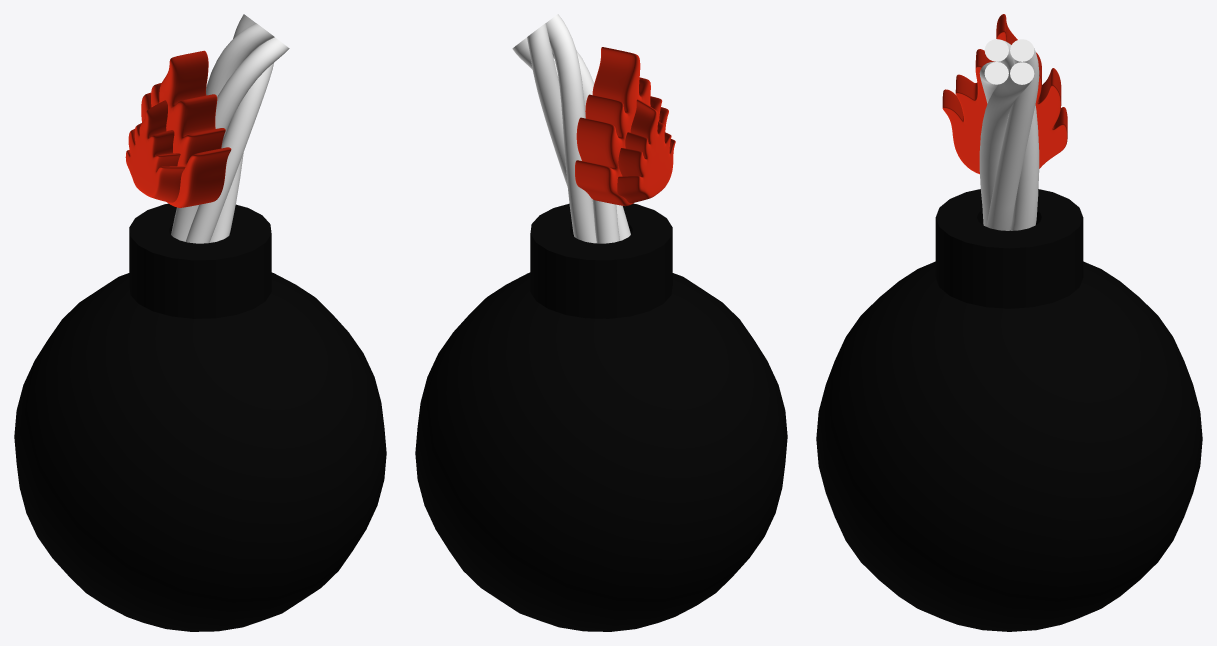
The model's file is BomX2.obj.
The picture shows the model from 3 angles, left to right: view 1: azimuth 30°, elevation 25°; view 2: azimuth 150°, elevation 25°; view 3: azimuth 270°, elevation 25°; orthographic projection. The views are drawn at different scales.
Parts seen in each view (by area): view 1: bomblvl1_pSphere1, bomblvl1_pPipe1, 21330_Flame_v1, pCylinder14_bomblvl1; view 2: bomblvl1_pSphere1, bomblvl1_pPipe1, 21330_Flame_v1, pCylinder14_bomblvl1; view 3: bomblvl1_pSphere1, bomblvl1_pPipe1, pCylinder14_bomblvl1, 21330_Flame_v1.
Boxes of the visible parts, box(x1,y1,x2,y2) form: bomblvl1_pSphere1: box(14, 272, 386, 631); bomblvl1_pPipe1: box(129, 203, 271, 318); 21330_Flame_v1: box(125, 50, 231, 207); pCylinder14_bomblvl1: box(171, 14, 289, 243); bomblvl1_pSphere1: box(415, 272, 787, 631); bomblvl1_pPipe1: box(530, 203, 672, 318); 21330_Flame_v1: box(575, 47, 675, 206); pCylinder14_bomblvl1: box(512, 14, 630, 243); bomblvl1_pSphere1: box(816, 261, 1202, 631); bomblvl1_pPipe1: box(935, 189, 1083, 308); pCylinder14_bomblvl1: box(979, 39, 1039, 230); 21330_Flame_v1: box(942, 14, 1067, 174).
Size of the model in its own units: 4.21 by 7.23 by 4.21.
